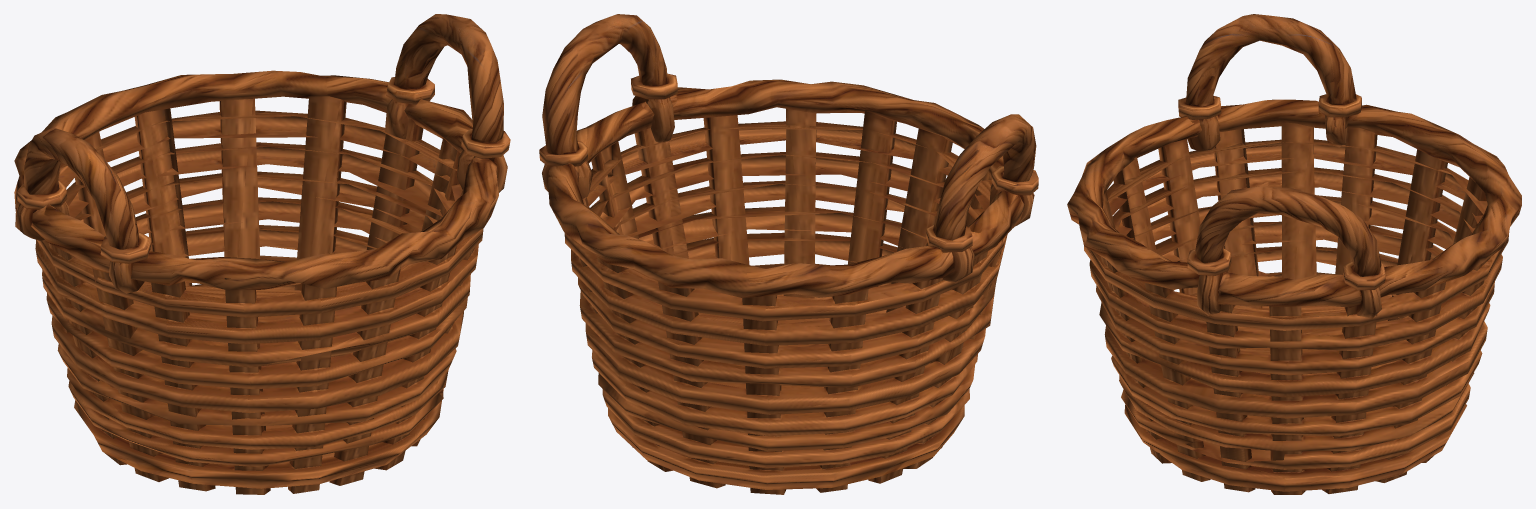
The model's file is grape_basket.glb.
3 renders of one model, left to right at view 1: azimuth 30°, elevation 25°; view 2: azimuth 150°, elevation 25°; view 3: azimuth 270°, elevation 25°, orthographic. The views are drawn at different scales.
Bounding box in the file's own units: 1 × 0.8027 × 0.9902.
Materials: 1 (1 with a texture image).
